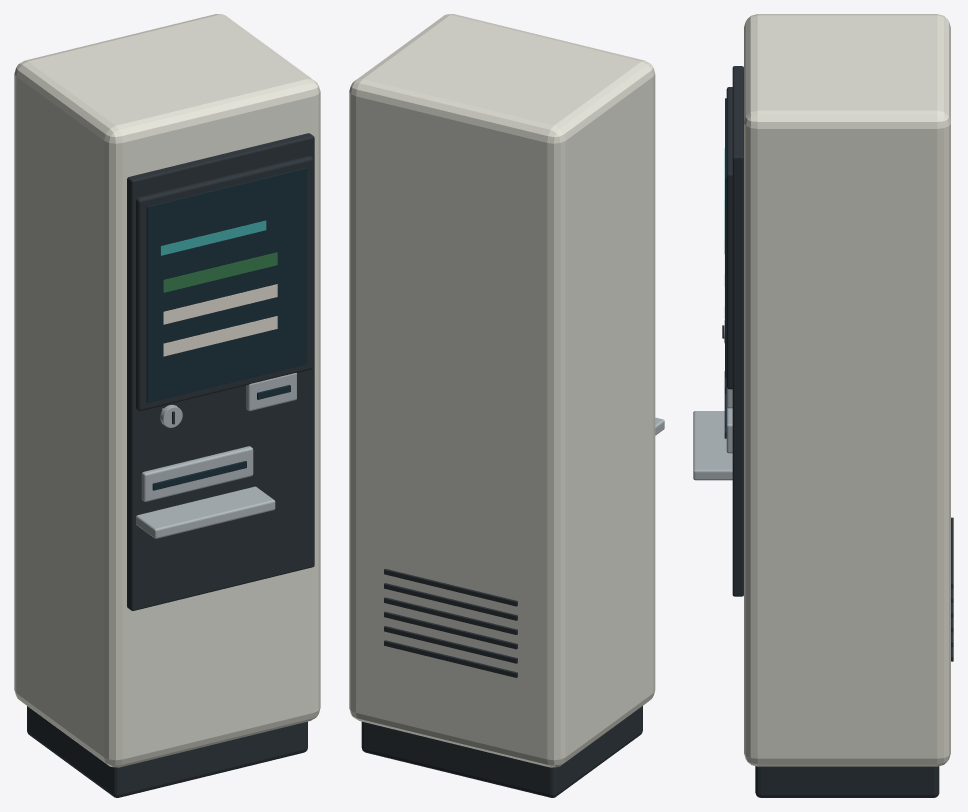
File: checkin-kiosk.glb
3 views of the same model, side by side, from view 1: azimuth 30°, elevation 25°; view 2: azimuth 150°, elevation 25°; view 3: azimuth 270°, elevation 25° (orthographic). The views are drawn at different scales.
Parts seen in each view (by area): view 1: Kiosk main equipment cabinet, Coin slot, Device insertion slot, Coin acceptance surround, Original interface row.001, Original interface row, Original screen heading; view 2: Kiosk main equipment cabinet, Coin slot; view 3: Kiosk main equipment cabinet, Coin slot, Coin acceptance surround, Device insertion slot.
Boxes of the visible parts, box(x1,y1,x2,y2) form: Kiosk main equipment cabinet: box(14, 14, 320, 767); Coin slot: box(27, 133, 314, 797); Device insertion slot: box(146, 167, 307, 490); Coin acceptance surround: box(136, 373, 296, 538); Original interface row.001: box(163, 284, 277, 356); Original interface row: box(163, 252, 277, 292); Original screen heading: box(160, 220, 266, 255); Kiosk main equipment cabinet: box(349, 14, 655, 767); Coin slot: box(361, 568, 642, 797); Kiosk main equipment cabinet: box(744, 14, 950, 766); Coin slot: box(722, 66, 953, 797); Coin acceptance surround: box(693, 320, 732, 480); Device insertion slot: box(724, 98, 726, 438).
Bounding box in the file's own units: 0.55 × 1.65 × 0.566.
Materials: 7 (7 with a texture image).
